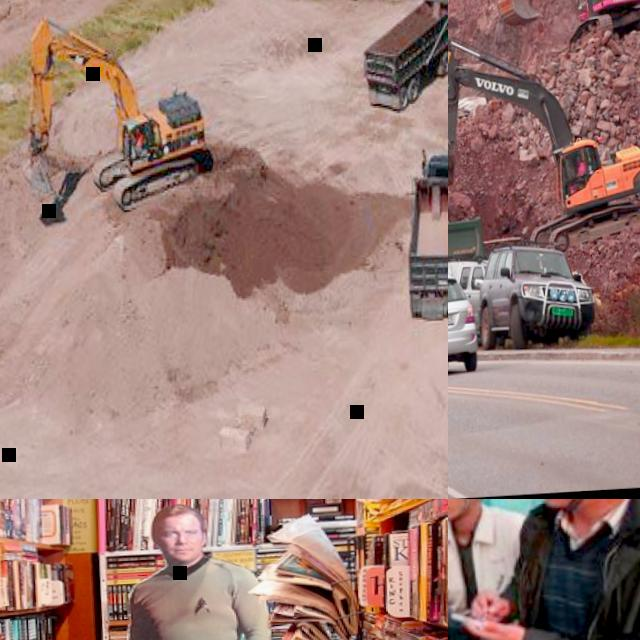Hardhat: (576, 157, 581, 162)
NO-Mask: (448, 499, 474, 515)
NO-Safety Vest: (515, 501, 640, 640), (448, 511, 532, 609)
Person: (448, 499, 640, 640), (448, 499, 539, 640), (569, 156, 587, 194), (135, 127, 146, 150)
Safety Vest: (136, 135, 147, 150), (576, 163, 586, 176)
vehicle: (448, 24, 640, 257), (21, 3, 218, 217), (477, 241, 598, 352), (360, 0, 448, 115), (489, 0, 640, 57), (401, 146, 448, 325), (448, 259, 493, 344), (448, 271, 480, 382), (448, 197, 486, 282)
